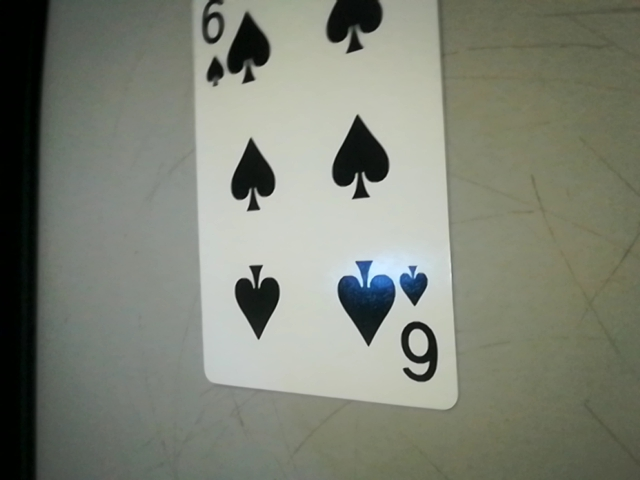ht 6: (391, 259, 447, 397)
